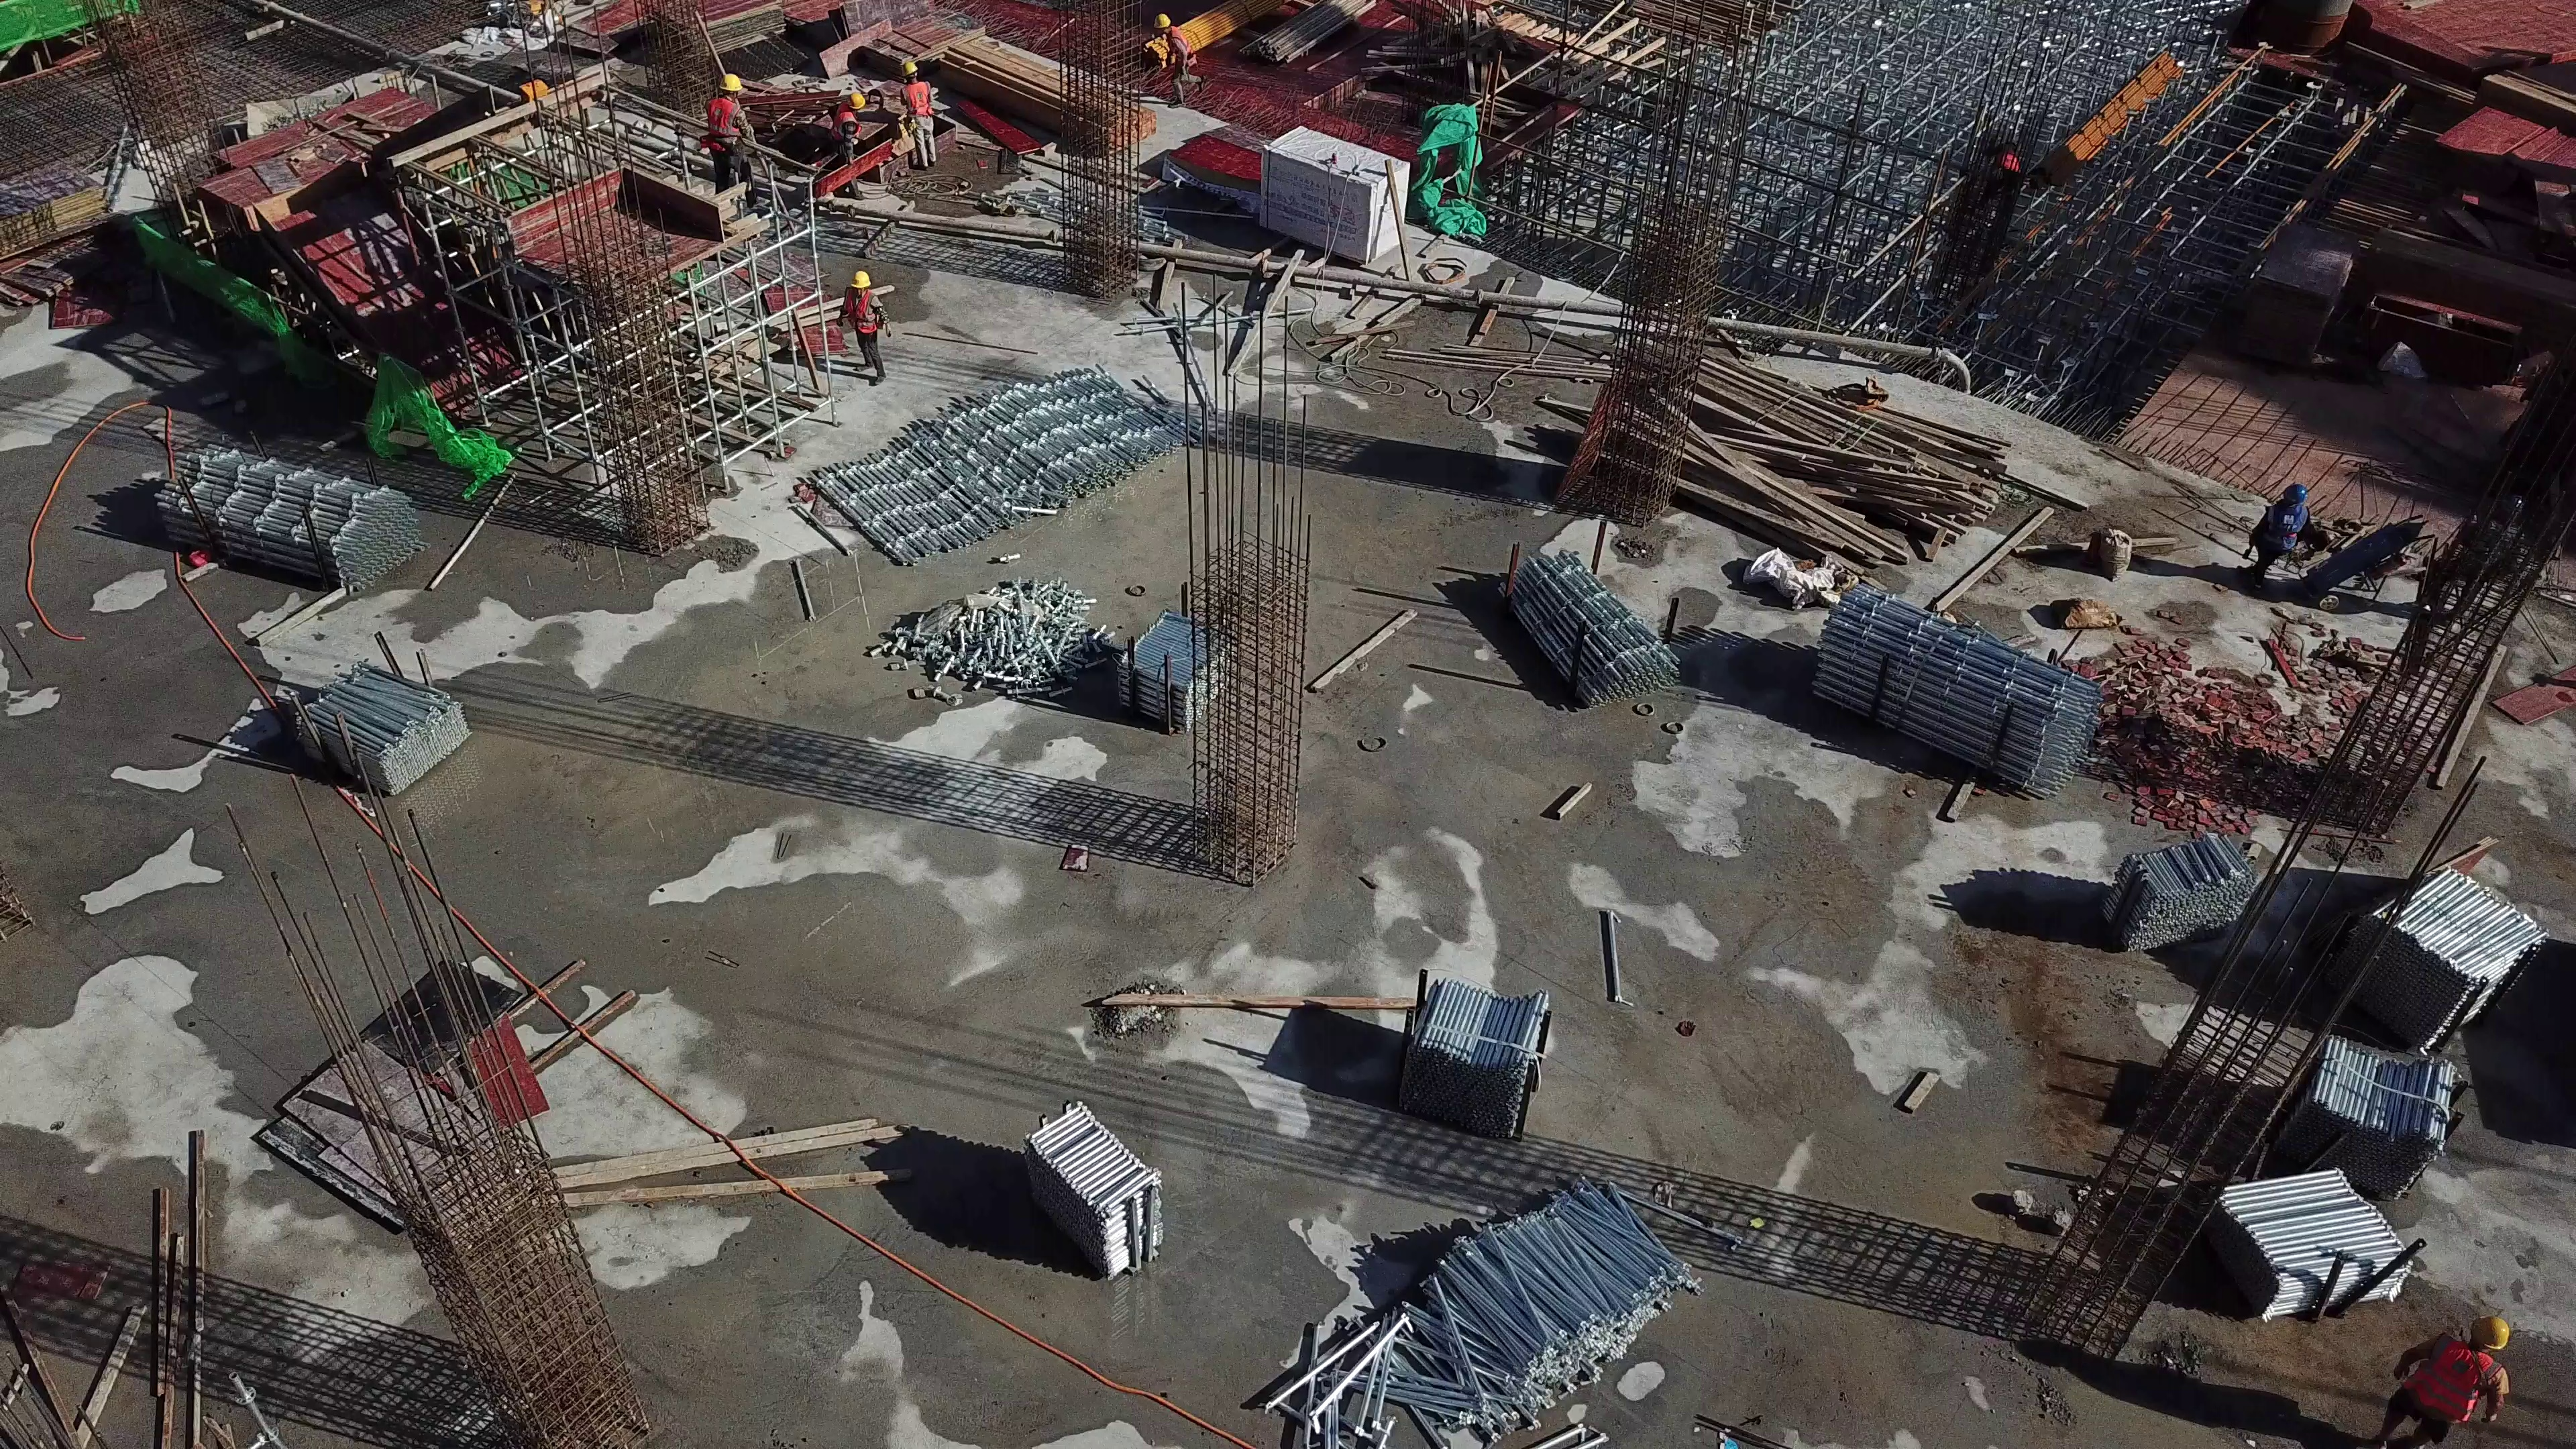board: (250, 953, 539, 1216), (1, 154, 115, 303)
helmet: (2469, 1316, 2510, 1352), (716, 71, 746, 95), (845, 270, 871, 292), (2284, 478, 2308, 504), (896, 60, 919, 80), (1152, 12, 1175, 34), (847, 89, 867, 113)
person: (2380, 1312, 2510, 1449), (829, 271, 898, 397), (2251, 478, 2315, 592), (705, 70, 754, 214), (1144, 11, 1206, 116), (898, 63, 939, 174), (829, 93, 865, 205)
scaffold: (1279, 1177, 1686, 1449), (781, 373, 1194, 564), (1786, 576, 2104, 812), (136, 439, 425, 595), (2180, 1163, 2436, 1311), (2345, 855, 2539, 1039), (993, 1094, 1178, 1280), (865, 580, 1111, 716), (1472, 552, 1672, 717), (2269, 1020, 2458, 1194), (1375, 977, 1560, 1135), (268, 676, 475, 798), (1075, 590, 1225, 735), (2102, 833, 2251, 945)
vest: (2396, 1335, 2502, 1419), (2263, 496, 2305, 555), (705, 95, 745, 154), (839, 292, 883, 339), (828, 106, 861, 146), (901, 81, 932, 120), (1175, 36, 1197, 74)
wood: (1685, 366, 1987, 574), (945, 40, 1139, 147)
